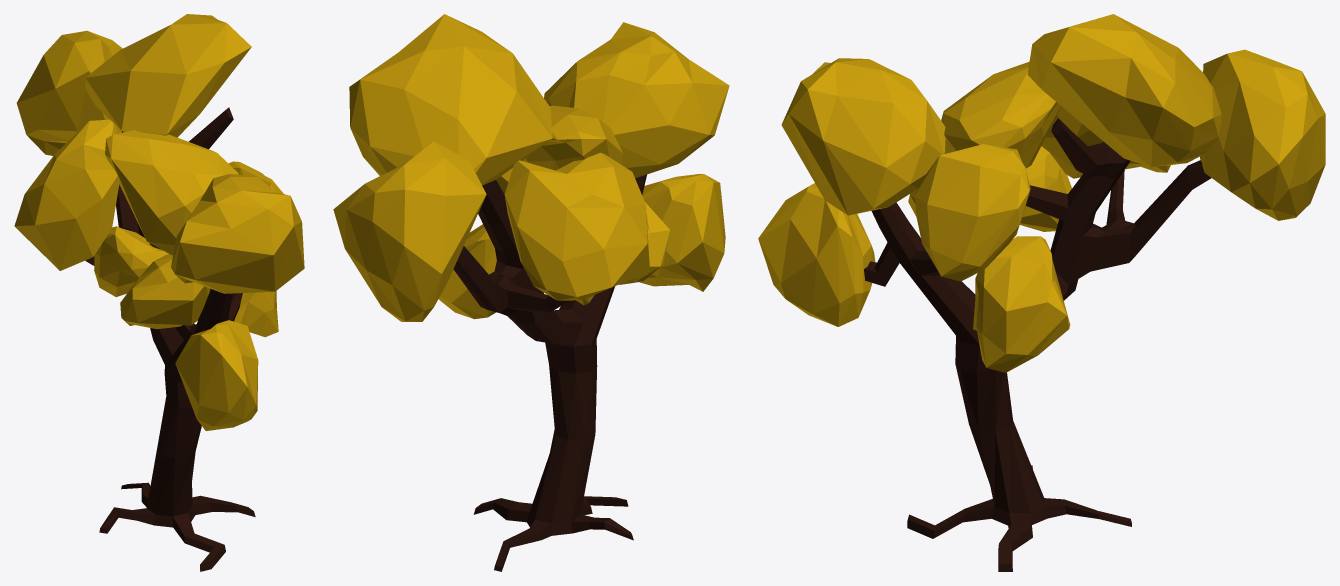
Rendered from t1-yellow.obj.
3 renders of one model, left to right at view 1: azimuth 30°, elevation 25°; view 2: azimuth 150°, elevation 25°; view 3: azimuth 270°, elevation 25°, orthographic. The views are drawn at different scales.
Parts seen in each view (by area): view 1: t1-yellow_Cylinder.023; view 2: t1-yellow_Cylinder.023; view 3: t1-yellow_Cylinder.023.
Boxes of the visible parts, x1=… form: t1-yellow_Cylinder.023: x1=14, y1=14, x2=304, y2=571; t1-yellow_Cylinder.023: x1=333, y1=14, x2=729, y2=571; t1-yellow_Cylinder.023: x1=758, y1=14, x2=1325, y2=571.
Bounding box in the file's own units: 6.06 × 11.75 × 11.01.
